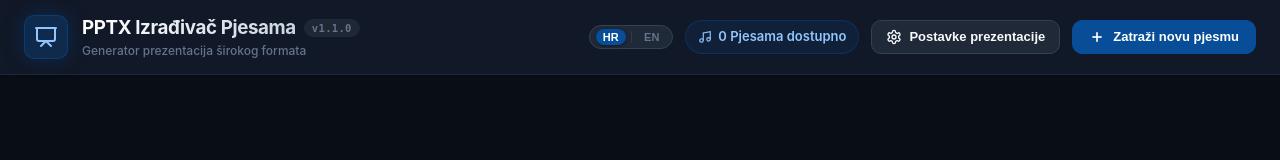
it: HeaderComponent › should toggle language between HR and EN
The image size is (1280, 160).
Click the button with class "lang-btn" showing "EN": coordinates (652, 37) [637, 29, 666, 45]
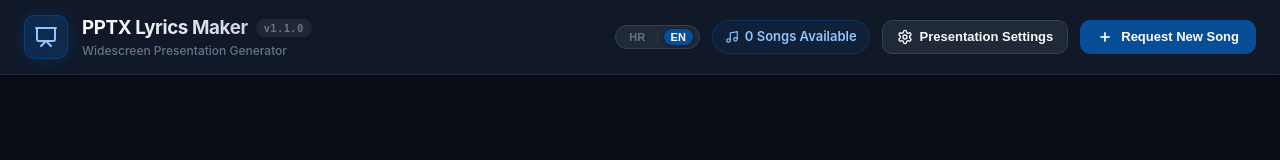
Check: the heading with class "brand-title" reads "PPTX Lyrics Maker", box [82, 16, 248, 39]
